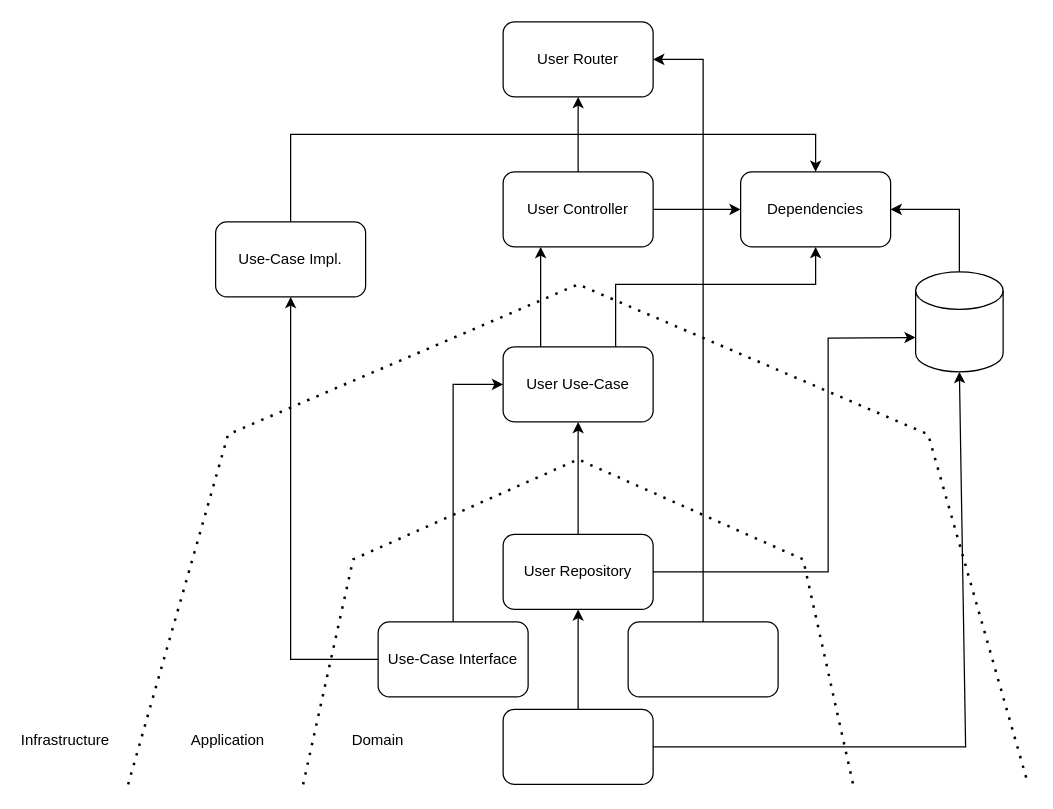
This 1053x809 diagram has some shape labels left out. Each missing label, with the box of its shape:
Class User: (502, 708, 653, 784)
Database: (914, 271, 1003, 372)
Model User: (627, 621, 778, 697)
